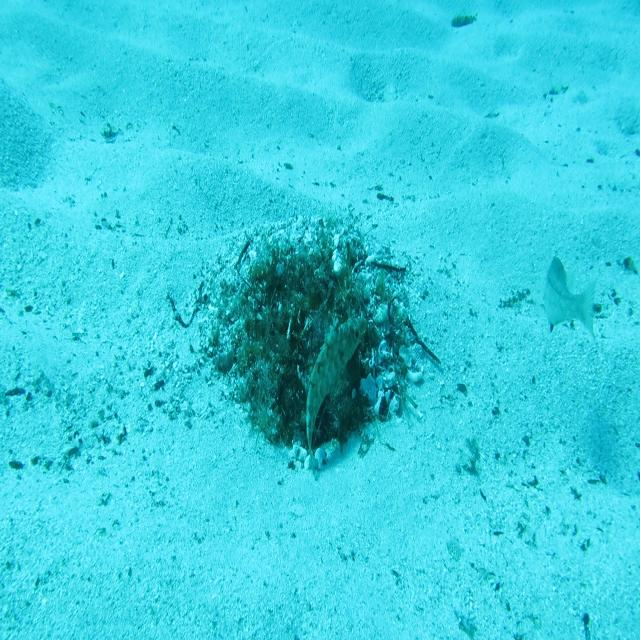LF: (304, 306, 369, 486)
core_nest: (280, 270, 334, 305)
female: (542, 252, 600, 348)
nest: (196, 210, 435, 492)
vegetation: (452, 12, 480, 34)
